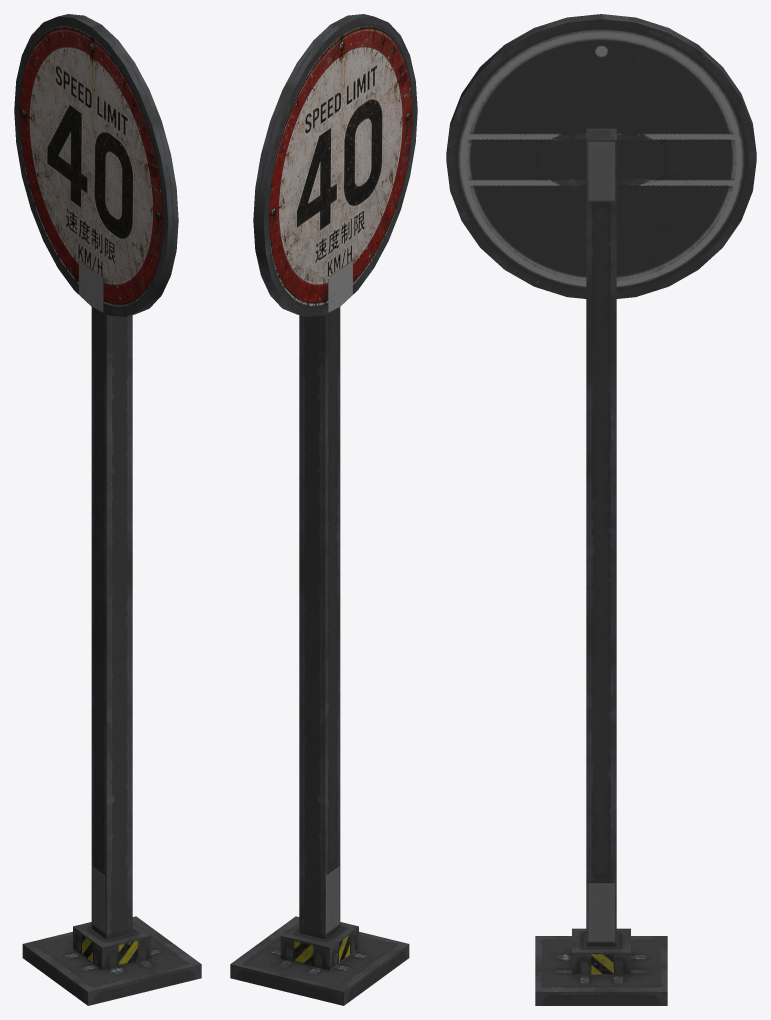
Rendered from CP_Road_Sign_Speed_Limit.fbx.
3 renders of one model, left to right at view 1: azimuth 30°, elevation 25°; view 2: azimuth 150°, elevation 25°; view 3: azimuth 270°, elevation 25°, orthographic.
Visible parts, largest first — view 1: CP_Road_Sign_Speed_Limit; view 2: CP_Road_Sign_Speed_Limit; view 3: CP_Road_Sign_Speed_Limit.
Boxes of the visible parts, left/top/right/bottom form: CP_Road_Sign_Speed_Limit: left=14, top=14, right=201, bottom=1005; CP_Road_Sign_Speed_Limit: left=230, top=14, right=417, bottom=1005; CP_Road_Sign_Speed_Limit: left=446, top=14, right=756, bottom=1005.
Size of the model in its own units: 34.27 by 273 by 80.49.
